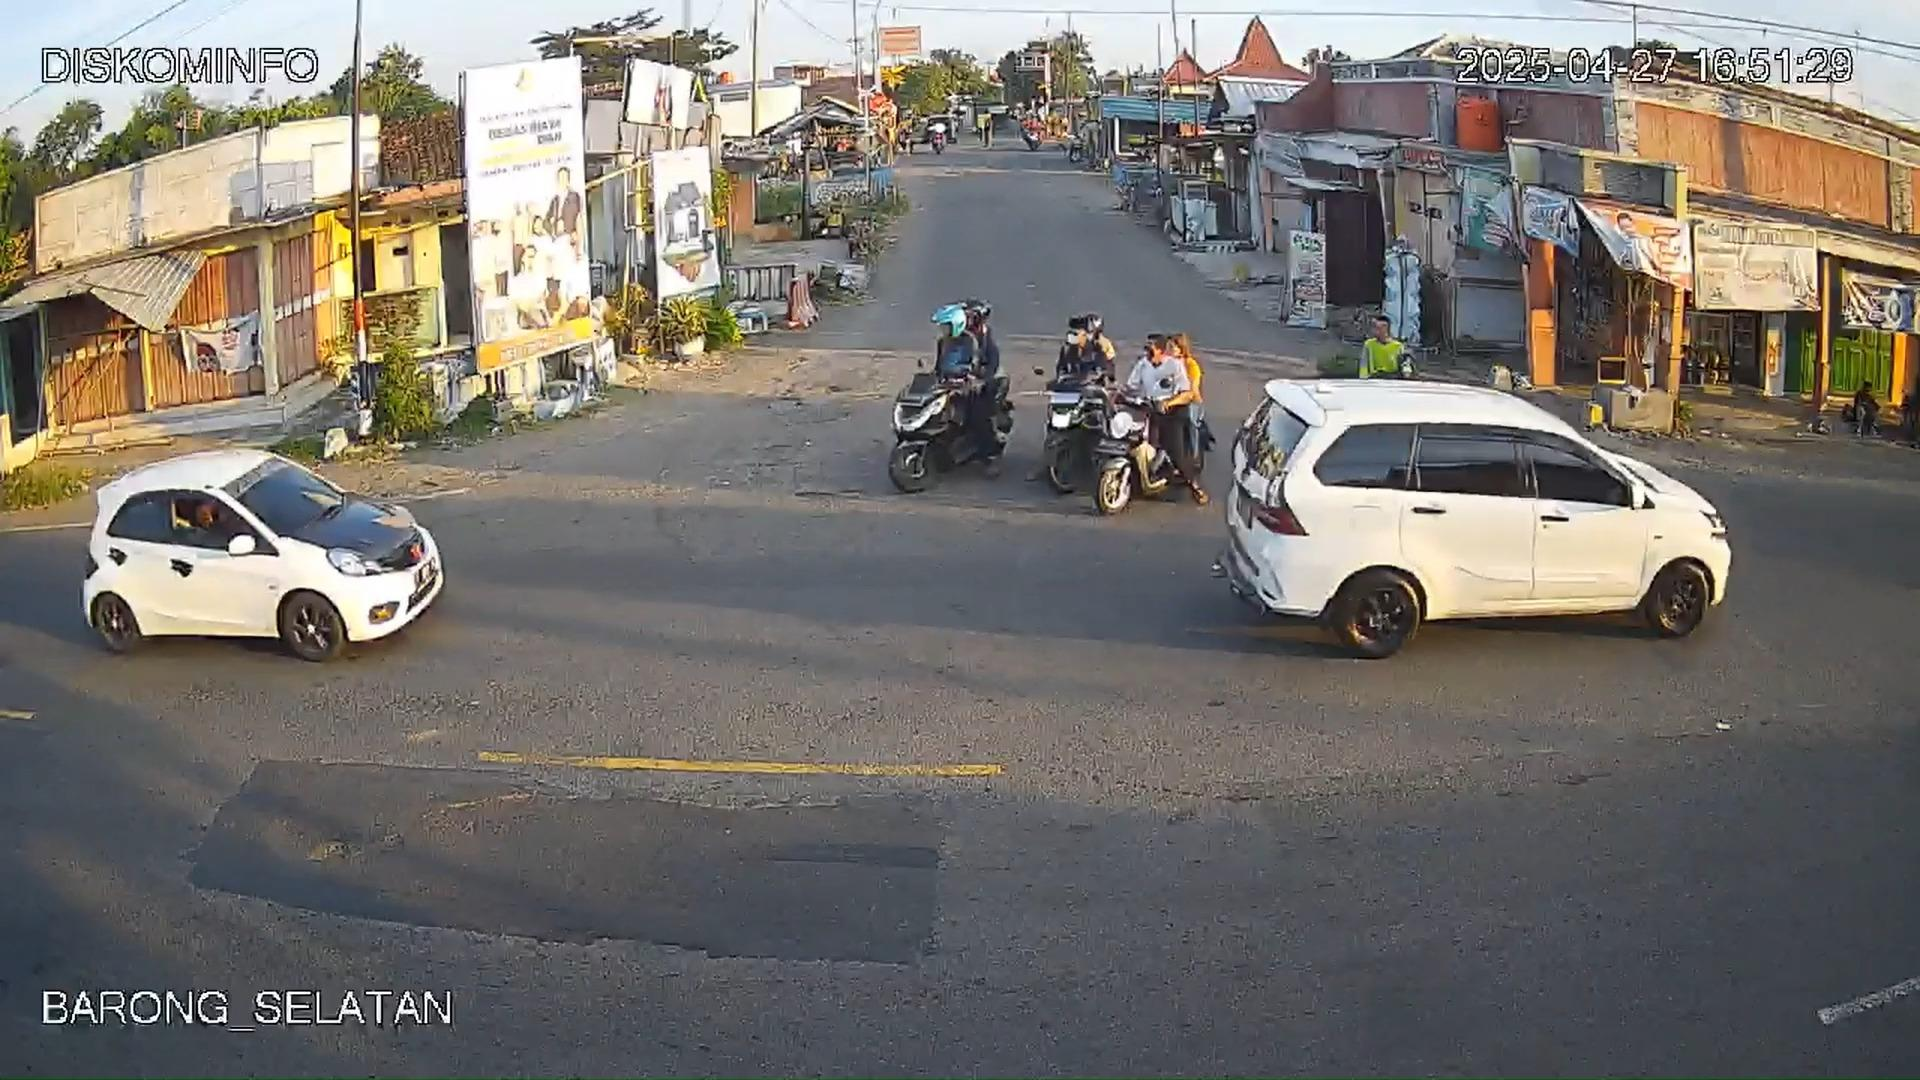Motor: (1097, 331, 1197, 526), (881, 353, 1005, 493), (1039, 326, 1113, 508)
mobil: (1220, 371, 1746, 657), (83, 447, 451, 665)
